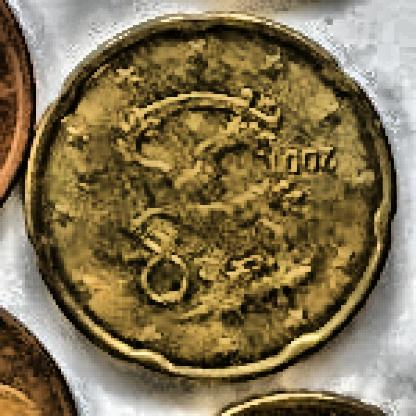coin: (15, 7, 397, 387)
